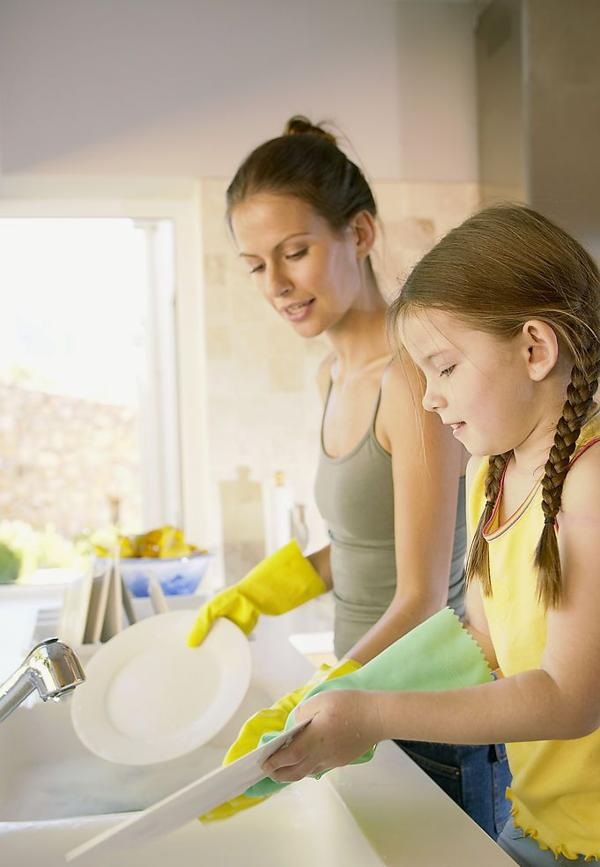person: (190, 118, 511, 843)
